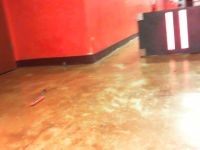switch: (177, 9, 190, 50), (164, 11, 176, 50)
